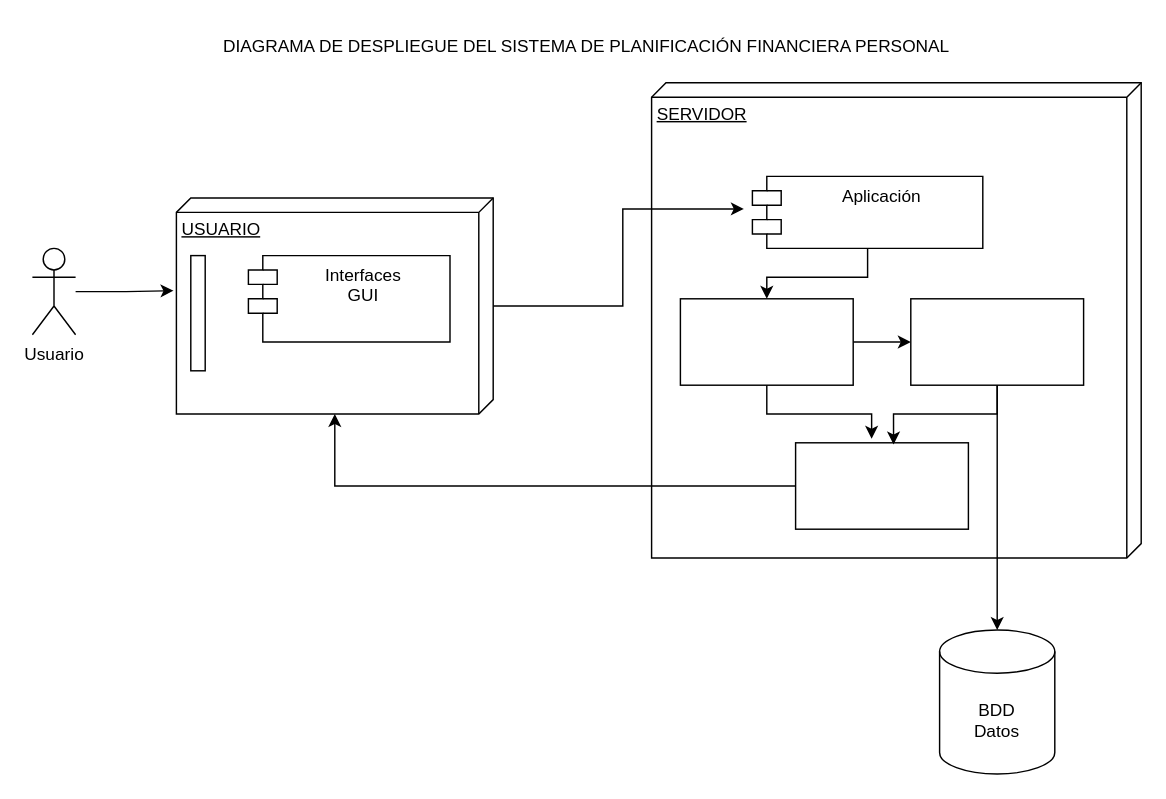
Image size: 1166x799. Some labels were removed from this diagram. Each missing label, with the centre of its shape:
"Controlador Clases" belongs at point 766,341.
"Modelo Clases" belongs at point 996,341.
"Vista Clases" belongs at point 881,485.
